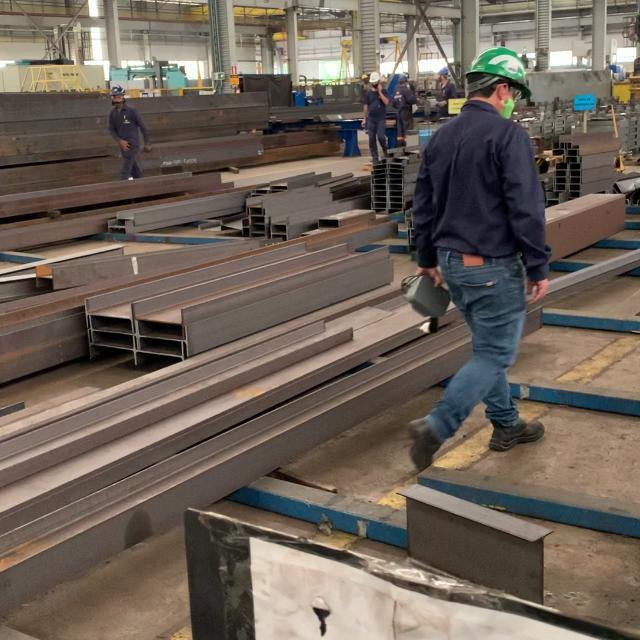glove: (461, 47, 535, 97)
helmet: (501, 97, 515, 117)
mask: (404, 47, 554, 475)
safety-shoe: (407, 419, 438, 471), (494, 420, 543, 452)
